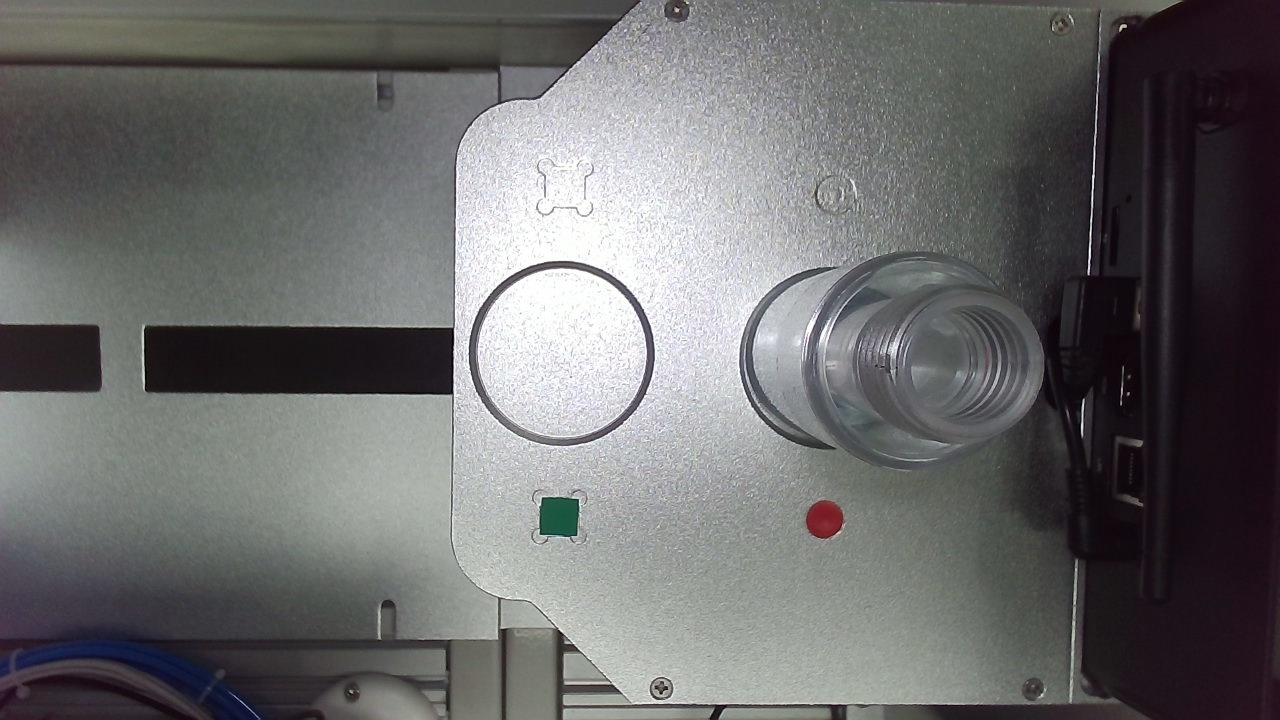XLabel: (864, 220, 898, 253)
YLabel: (645, 218, 680, 253)
none: (581, 288, 740, 444)
transparenexcept: (801, 249, 1121, 457)
